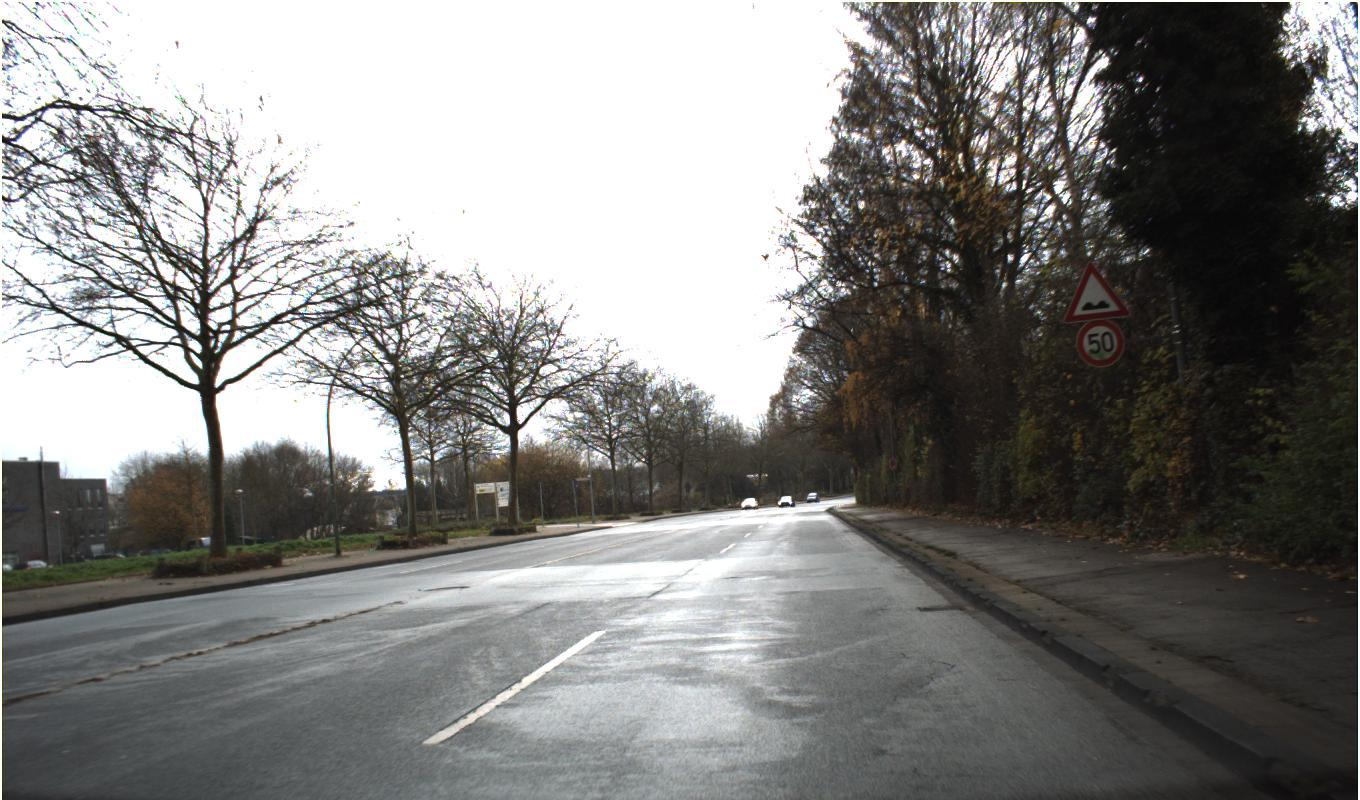22: (1062, 260, 1131, 324)
speed limit 50 prohibitory: (1075, 318, 1125, 368)
